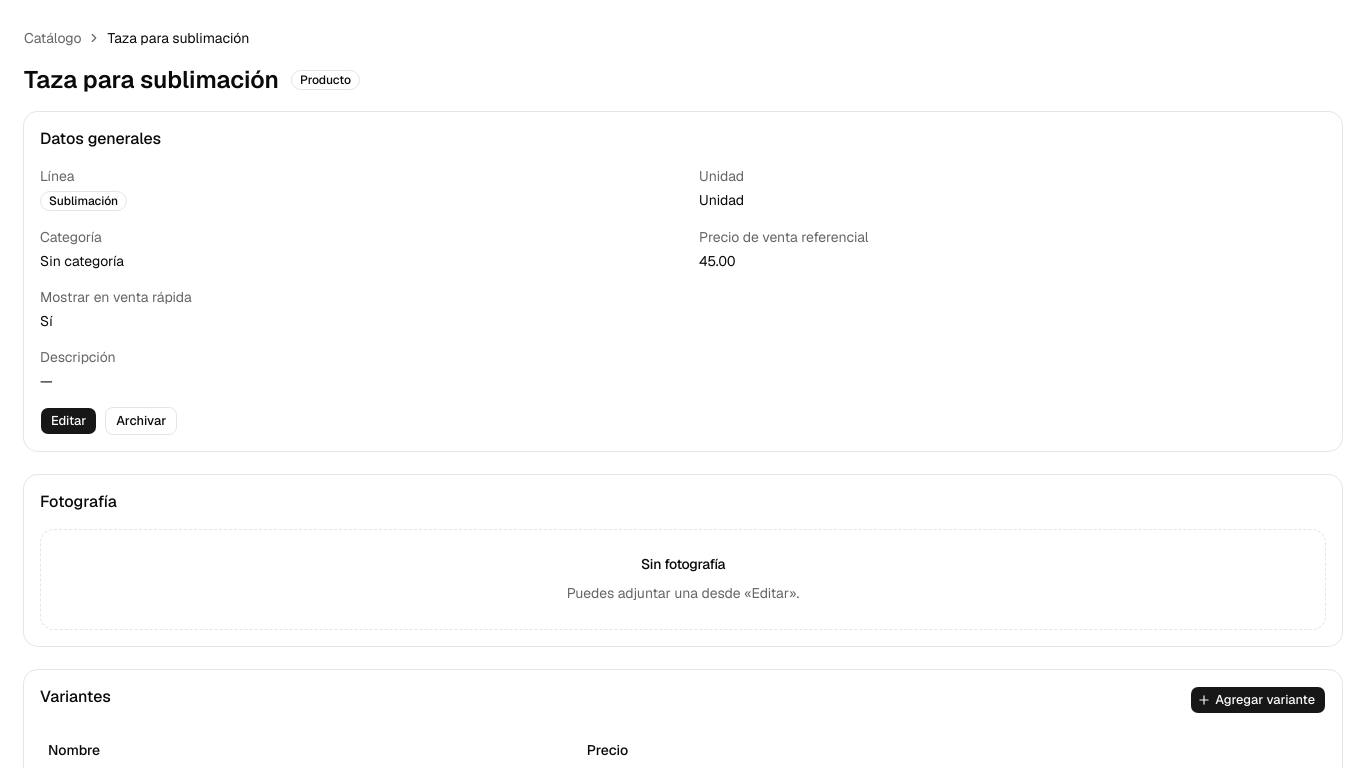
ItemDetail · campos según el tipo › las variantes de un producto muestran su precio y el formulario lo ofrece
Step 1. Click the button "Agregar variante" → x=1258, y=700, box top-left (1190, 686), bottom-right (1326, 714)
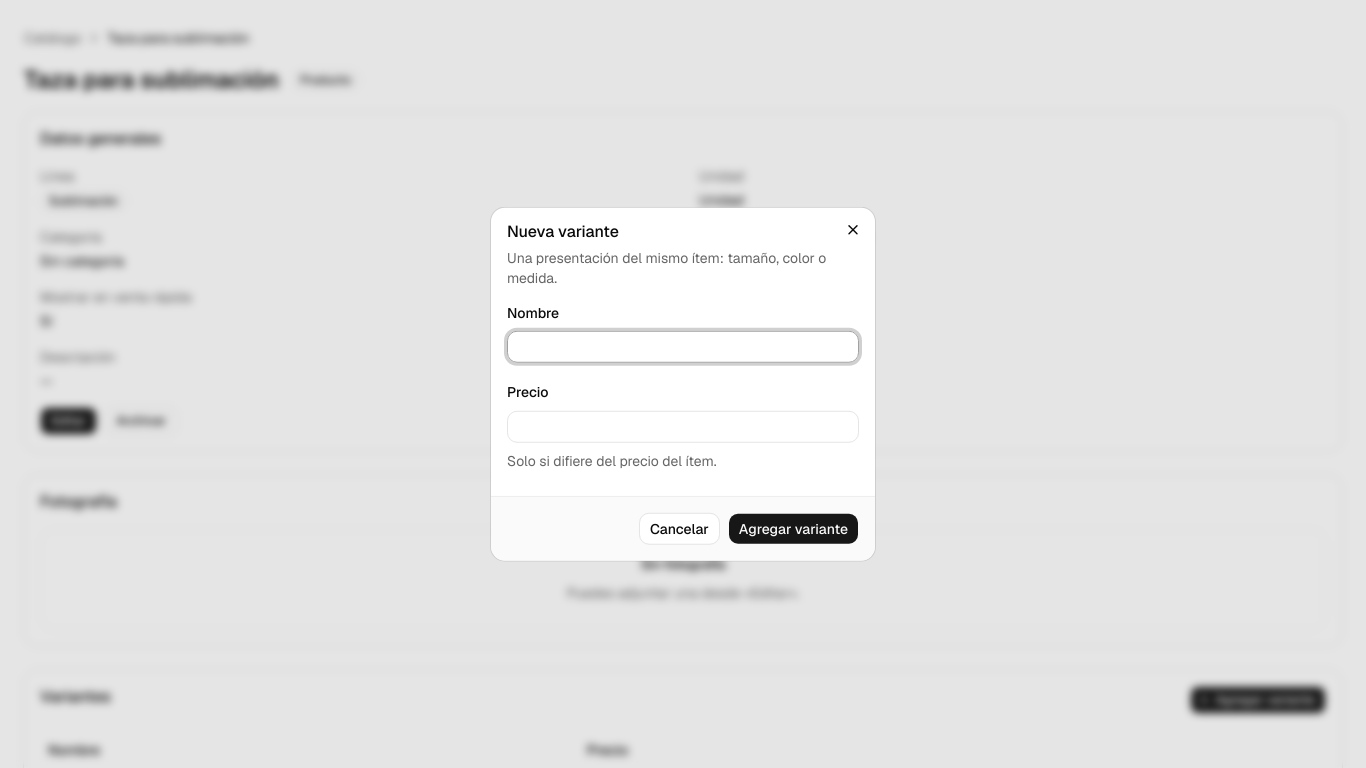
Result: the field labelled "Precio" is shown at top-left (507, 410), bottom-right (859, 442)
